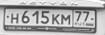license-plateSW: (4, 6, 98, 29)
